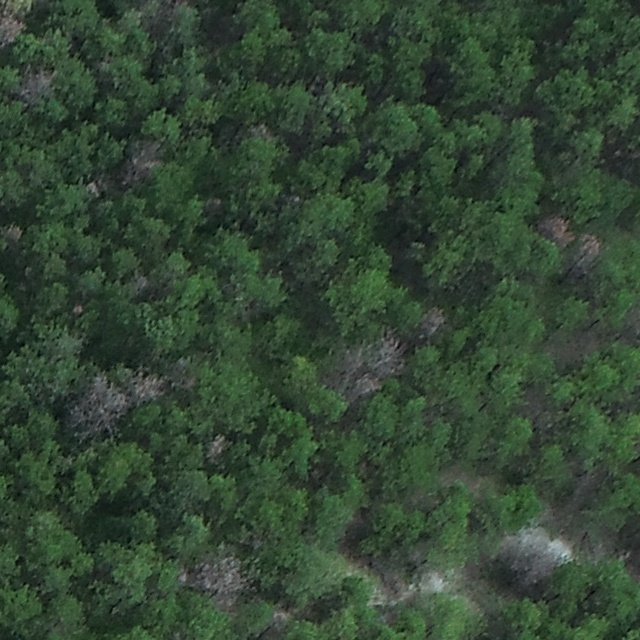unhealthy: (330, 328, 406, 398), (66, 374, 129, 438), (184, 550, 251, 610), (499, 524, 569, 580), (121, 138, 163, 185), (16, 63, 57, 100), (537, 212, 575, 243), (131, 370, 169, 401), (574, 232, 604, 271), (417, 303, 450, 337), (0, 10, 27, 48), (205, 433, 230, 465), (624, 300, 639, 339), (248, 121, 275, 141), (129, 269, 150, 293)
